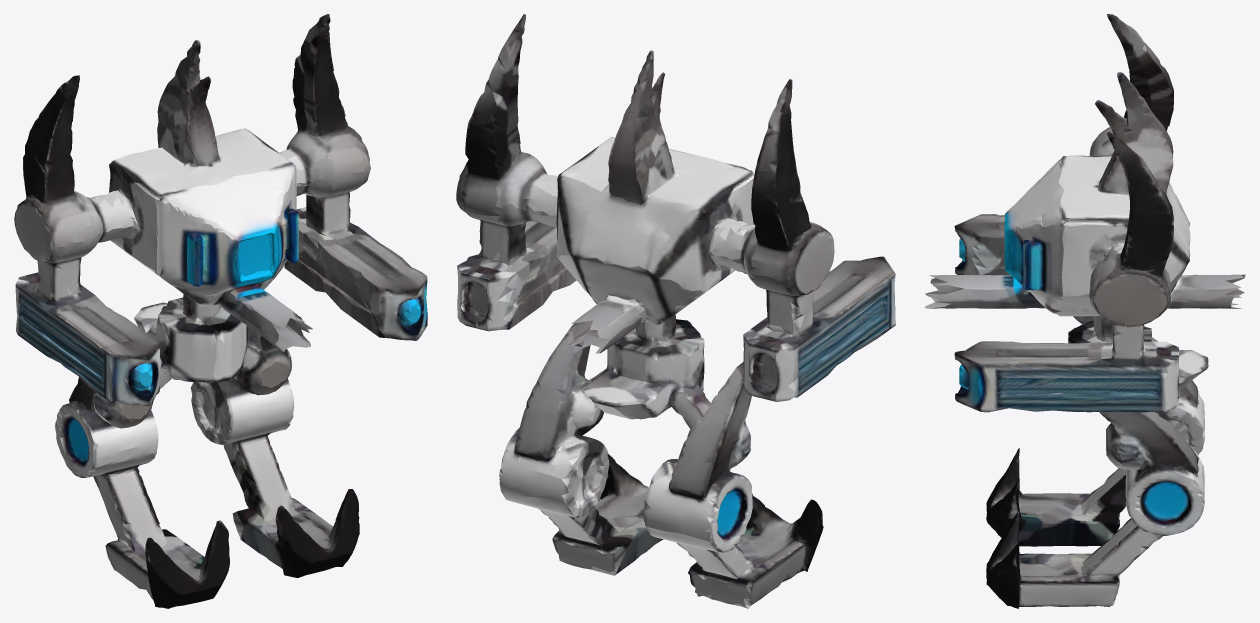
File: architect_clean.glb
The picture shows the model from 3 angles, left to right: view 1: azimuth 30°, elevation 25°; view 2: azimuth 150°, elevation 25°; view 3: azimuth 270°, elevation 25°; orthographic projection. The views are drawn at different scales.
Parts seen in each view (by area): view 1: Architect_Concept_Art; view 2: Architect_Concept_Art; view 3: Architect_Concept_Art.
Part boxes in pixels (left/top/right/bottom): Architect_Concept_Art: left=14, top=14, right=427, bottom=608; Architect_Concept_Art: left=456, top=14, right=895, bottom=608; Architect_Concept_Art: left=925, top=14, right=1245, bottom=608.
Bounding box in the file's own units: 0.9422 × 1.42 × 0.8391.
Materials: 1 (1 with a texture image).
